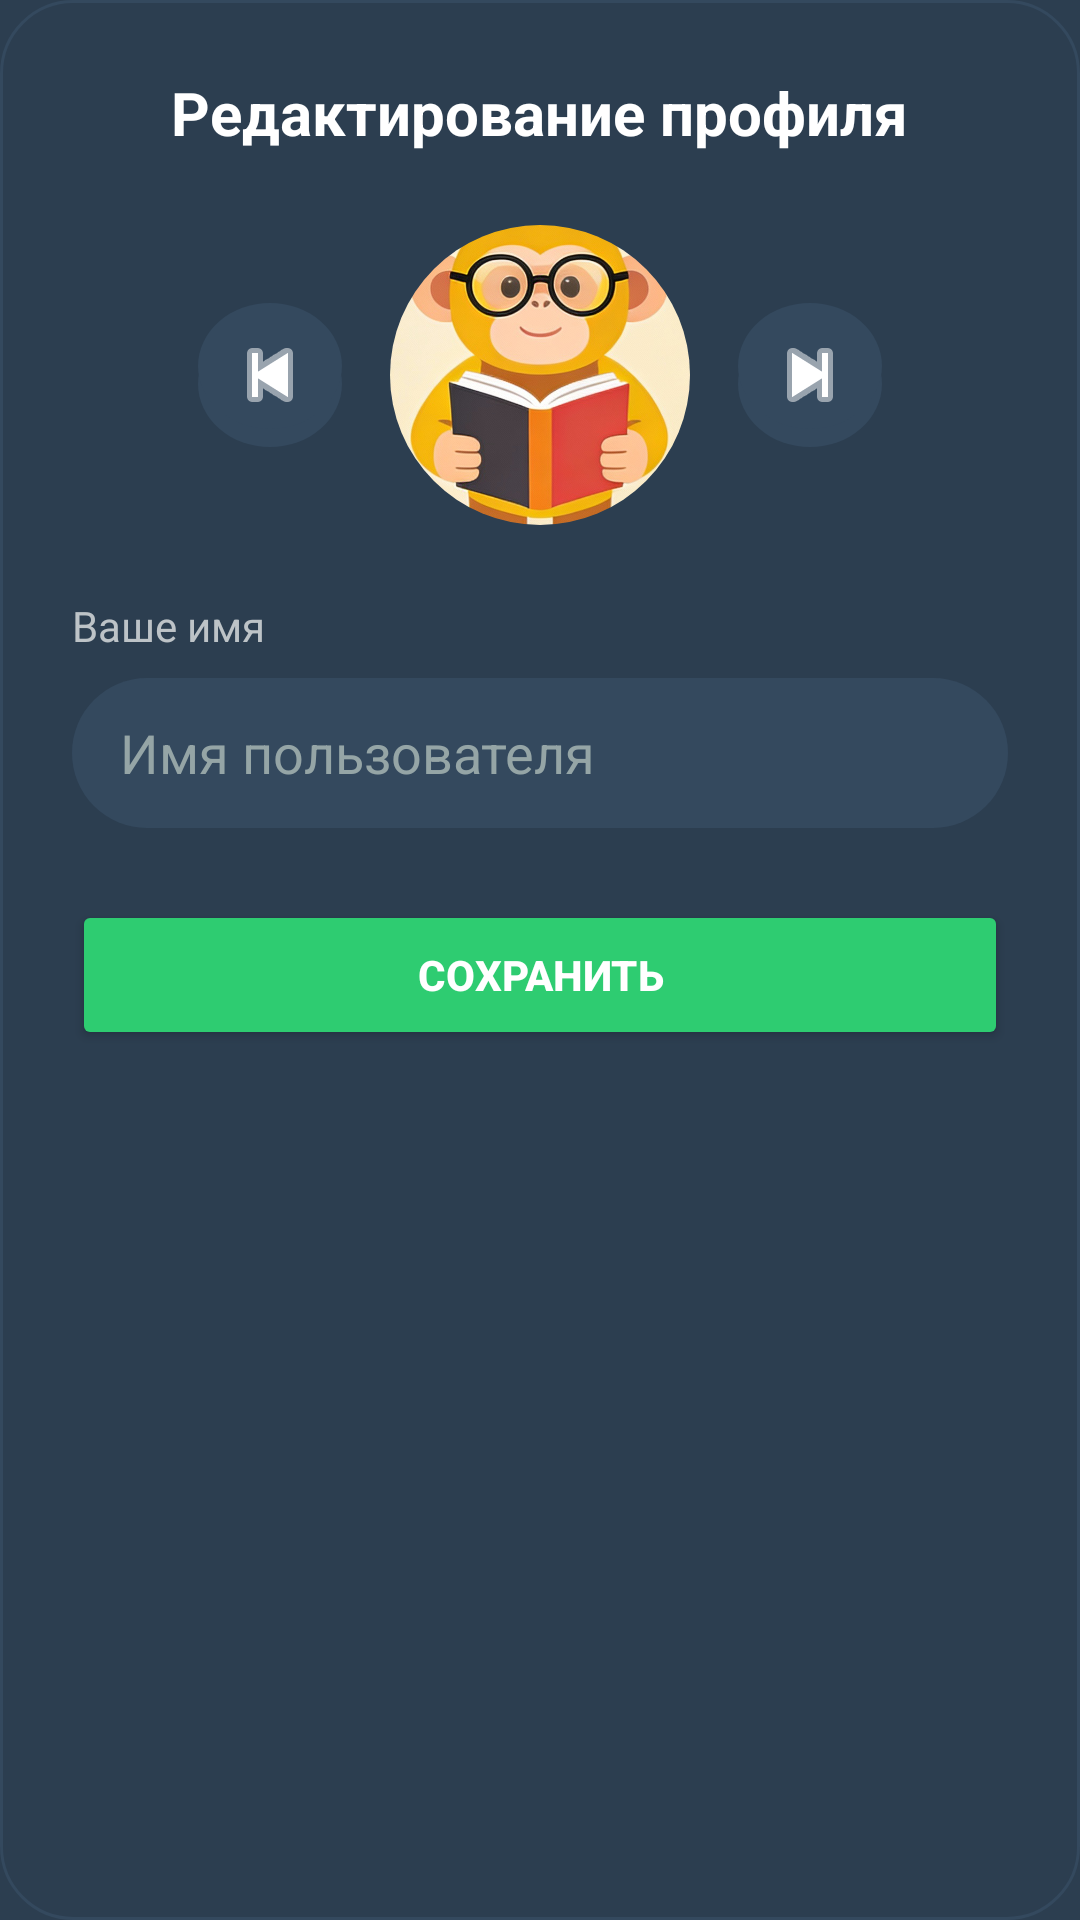

Named icons in this screenshot (1080px×1920px) and their centers, point (x, y):
next: point (810, 375)
previous: point (270, 375)
